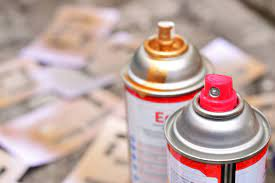metal: (122, 19, 207, 183), (165, 73, 275, 183)
